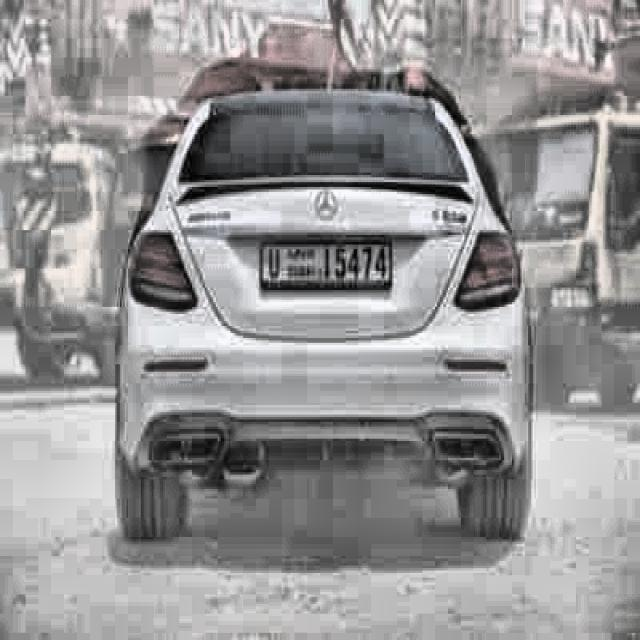license_plate: (258, 239, 392, 296)
